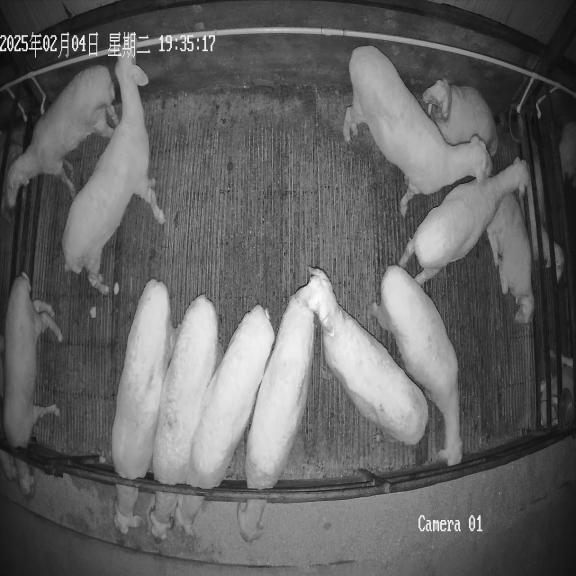eating: (174, 305, 275, 534), (237, 290, 314, 541), (149, 295, 222, 540), (111, 279, 177, 534), (3, 273, 62, 495)
lying: (486, 194, 534, 324), (422, 78, 498, 157)
stand: (62, 32, 165, 294), (344, 46, 492, 216), (301, 268, 428, 444), (369, 266, 462, 466), (3, 66, 118, 208), (399, 158, 528, 284)
